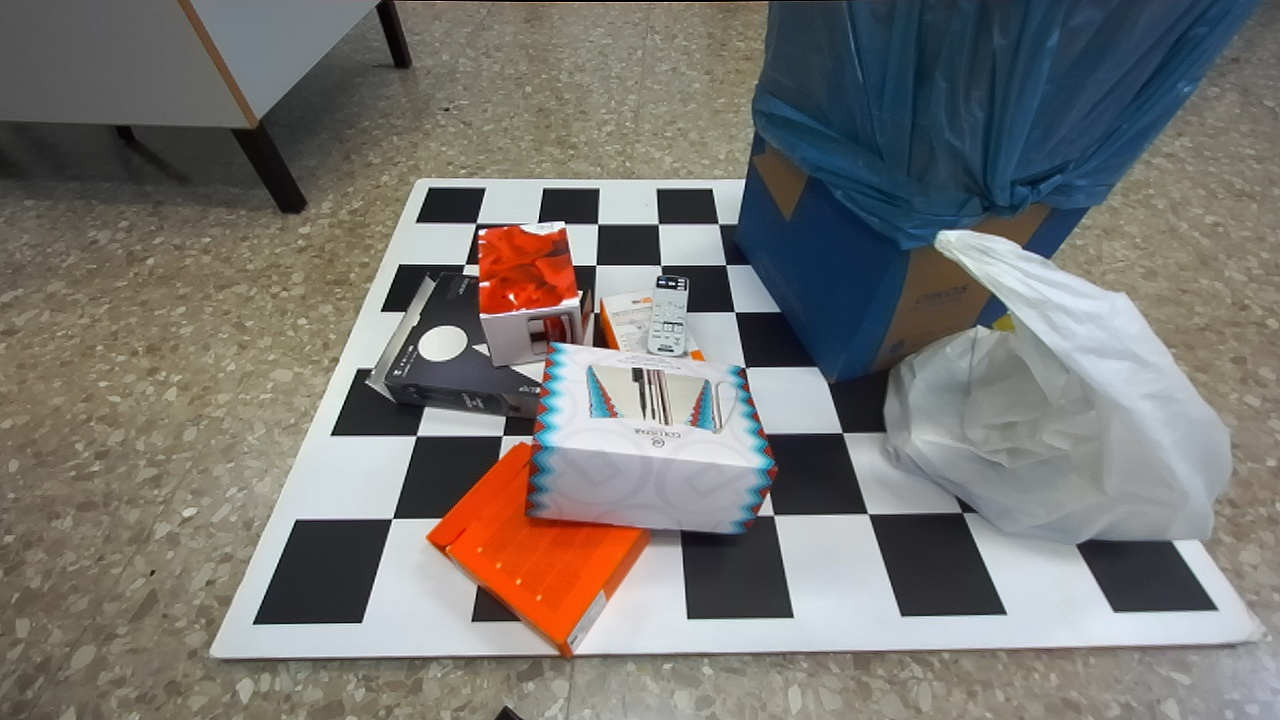caja_busbar: (526, 344, 776, 534)
caja_chasis: (366, 273, 592, 419)
caja_manguera: (426, 443, 649, 656)
caja_pcb: (600, 288, 707, 361)
caja_potencia: (479, 222, 583, 368)
